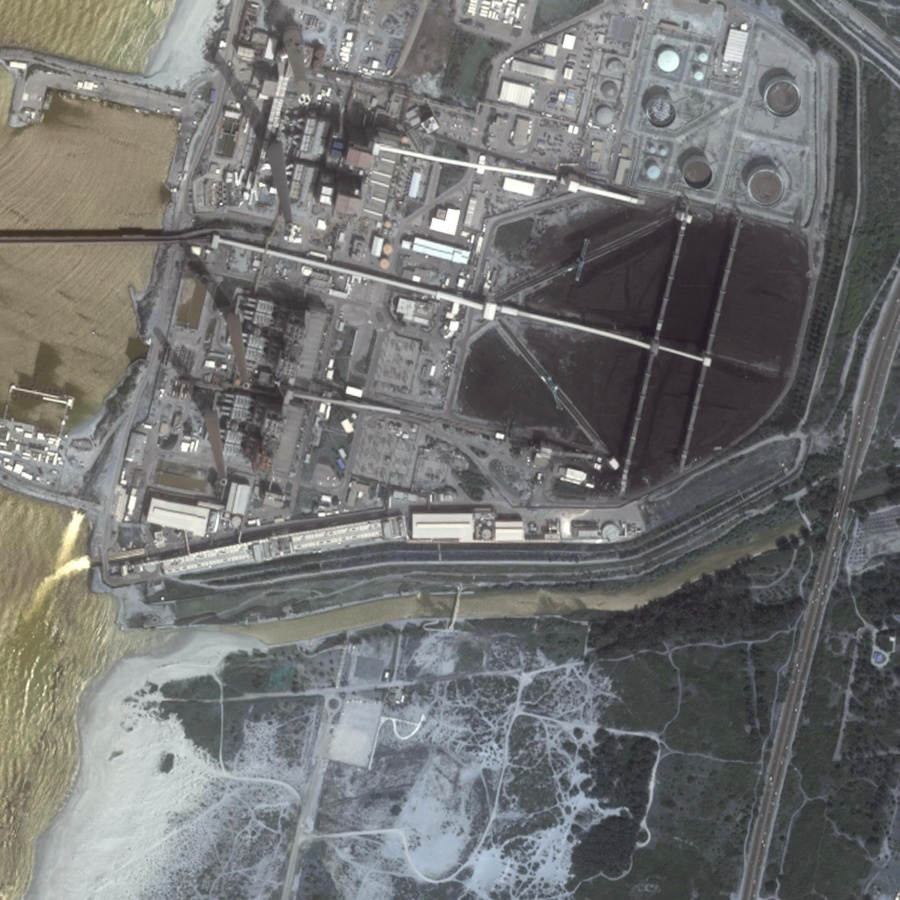PowerPlant: (453, 81, 814, 477), (120, 72, 381, 493)
